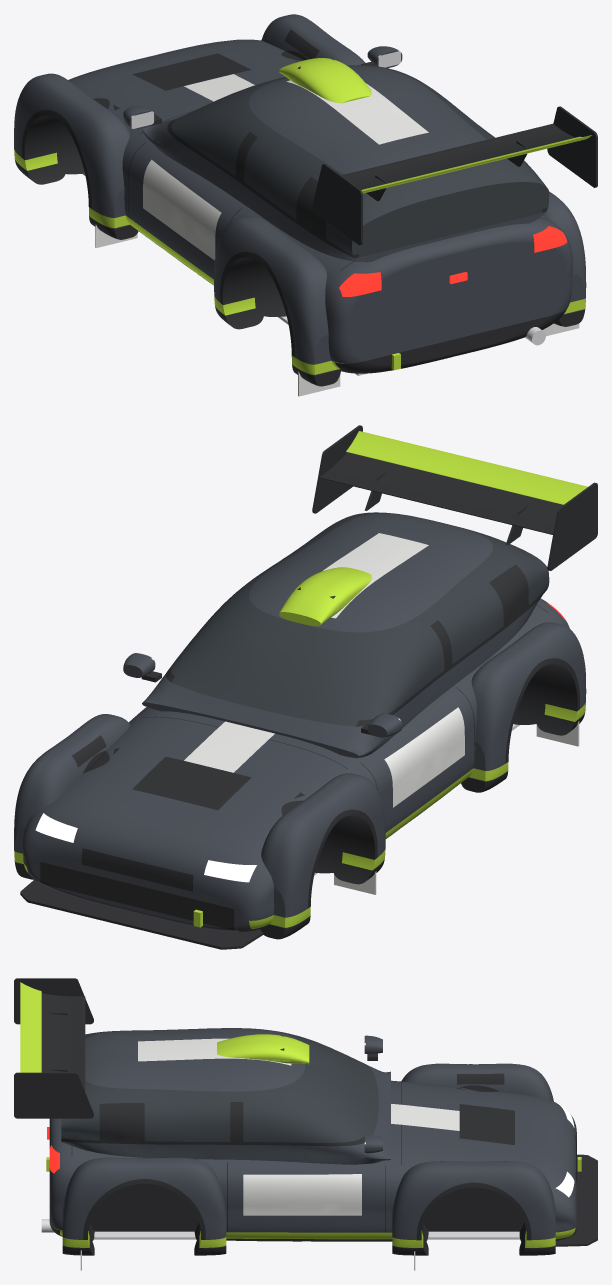
Rendered from body.glb.
3 views of the same model, one above another, from view 1: azimuth 30°, elevation 25°; view 2: azimuth 150°, elevation 25°; view 3: azimuth 270°, elevation 25° (orthographic). The views are drawn at different scales.
Visible parts, largest first — view 1: Livery, Carbon, Glass, LiveryWhite, Accent, Light, Metal; view 2: Livery, Carbon, Glass, Accent, LiveryWhite, Headlight; view 3: Livery, Carbon, Glass, LiveryWhite, Accent, Metal.
Part boxes in pixels (box(x1,y1,x2,y2)): Livery: box(14, 14, 586, 375); Carbon: box(15, 29, 597, 386); Glass: box(171, 65, 549, 257); LiveryWhite: box(95, 74, 579, 396); Accent: box(14, 58, 591, 374); Light: box(339, 226, 567, 296); Metal: box(82, 51, 545, 375); Livery: box(14, 513, 586, 931); Carbon: box(15, 425, 597, 949); Glass: box(170, 512, 549, 726); Accent: box(14, 431, 587, 928); LiveryWhite: box(184, 533, 579, 894); Headlight: box(35, 813, 256, 882); Livery: box(49, 1028, 576, 1248); Carbon: box(14, 978, 597, 1255); Glass: box(61, 1030, 378, 1142); LiveryWhite: box(80, 1038, 459, 1270); Accent: box(20, 982, 581, 1247); Metal: box(41, 1043, 520, 1239).
Bounding box in the file's own units: 2.07 × 1.58 × 4.43.
